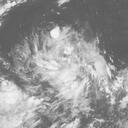cyclone: (33, 29, 110, 102)
